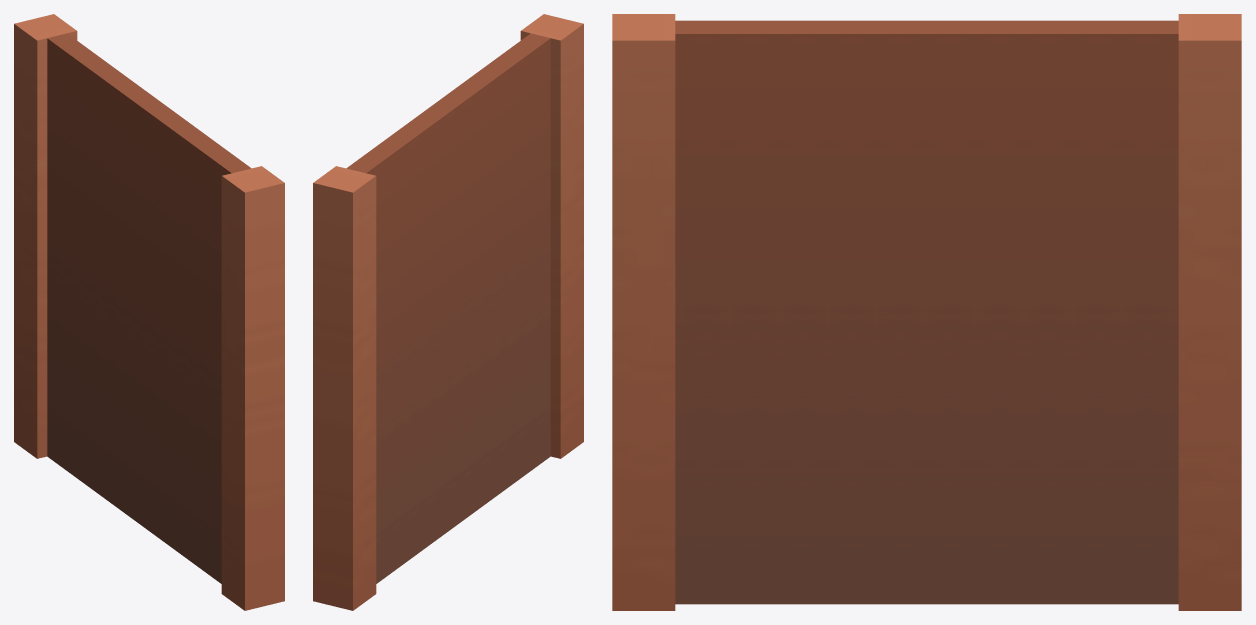
Rendered from wallWood.fbx.
3 renders of one model, left to right at view 1: azimuth 30°, elevation 25°; view 2: azimuth 150°, elevation 25°; view 3: azimuth 270°, elevation 25°, orthographic. The views are drawn at different scales.
Parts seen in each view (by area): view 1: wallWood; view 2: wallWood; view 3: wallWood.
Part boxes in pixels (x1,y1,x2,y2): wallWood: (14, 14, 284, 610); wallWood: (313, 14, 583, 610); wallWood: (612, 14, 1241, 610).
Bounding box in the file's own units: 0.1 × 1 × 1.
